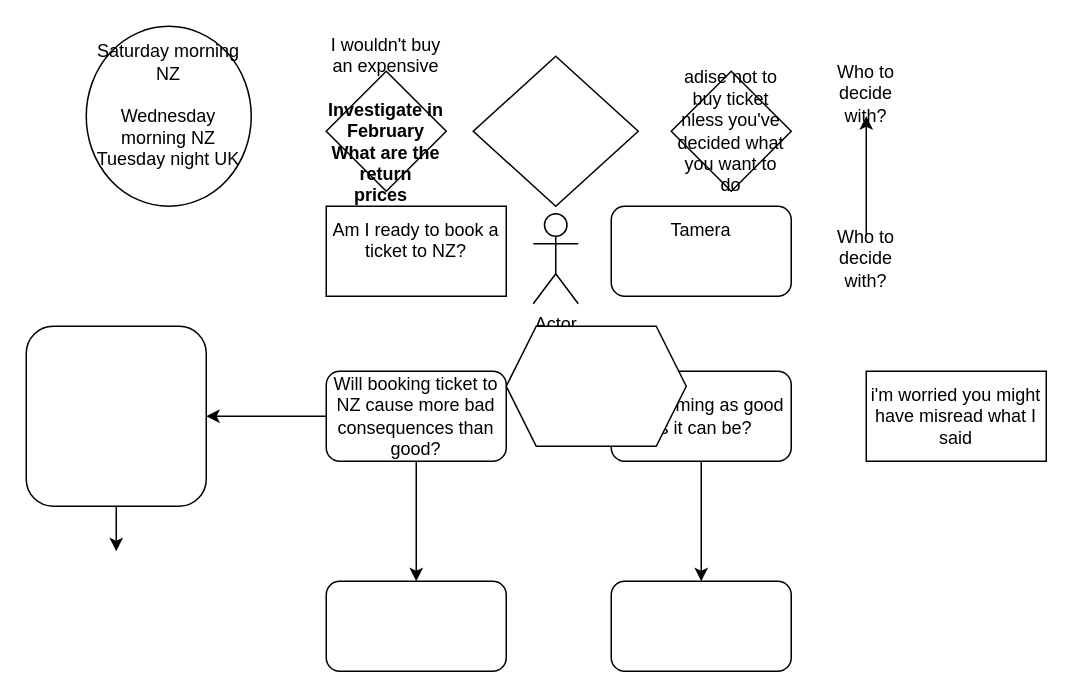
This 1073x698 diagram has some shape labels left out. The centre of each missing label's shape, as x and y in pixels:
"Good consequences:" goes at point 415,625.
"I think so! !!!!!" goes at point 700,625.
"if you want them to come back with" goes at point 595,385.
"Let us know formally Give us a chance" goes at point 555,130.
"Nick's warnings • About employers • about respect for him * Ideal job" goes at point 115,415.
